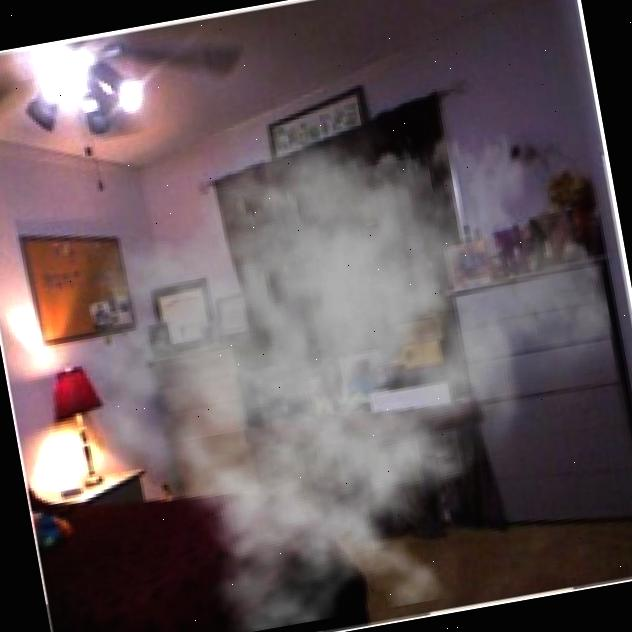smoke: (28, 43, 632, 632)
